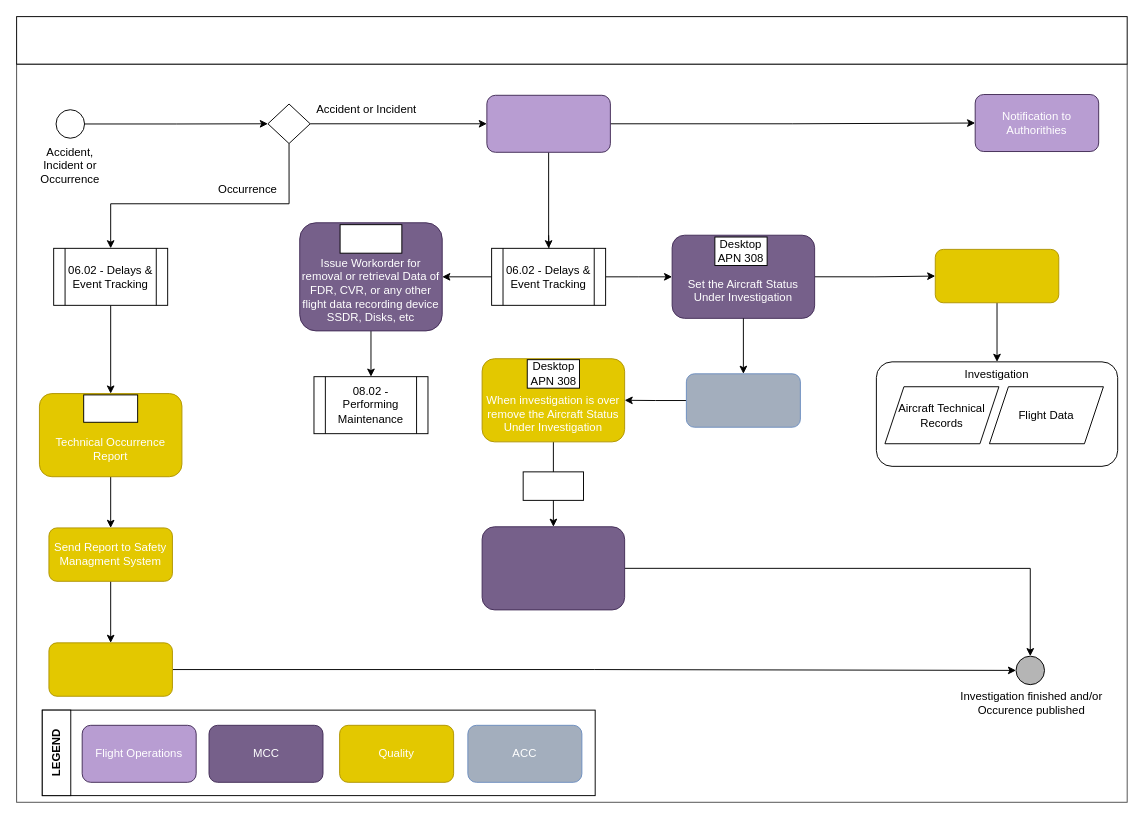
Image size: 1144x819. Some labels were removed from this diagram. Here are the shapes that lost their labels. From the top down, the centre of each, then its label:
(x=571, y=40): 06.05 Aircraft Incidents
(x=548, y=123): Launch Emergency Response Plan communication to MCC
(x=370, y=238): Desktop APN 1418
(x=996, y=275): Provide Flight Data to Authorities
(x=110, y=408): Desktop APN 1313
(x=742, y=400): Perform an AMOS Database Dump ACC
(x=552, y=485): Desktop APN 1466
(x=553, y=568): Inform Flight Operations
(x=110, y=669): Send Report to Authority
